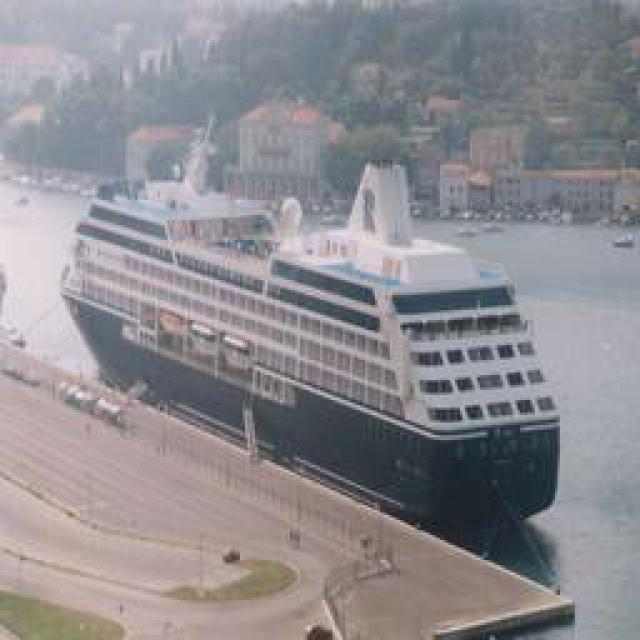Ship: (63, 135, 598, 543)
